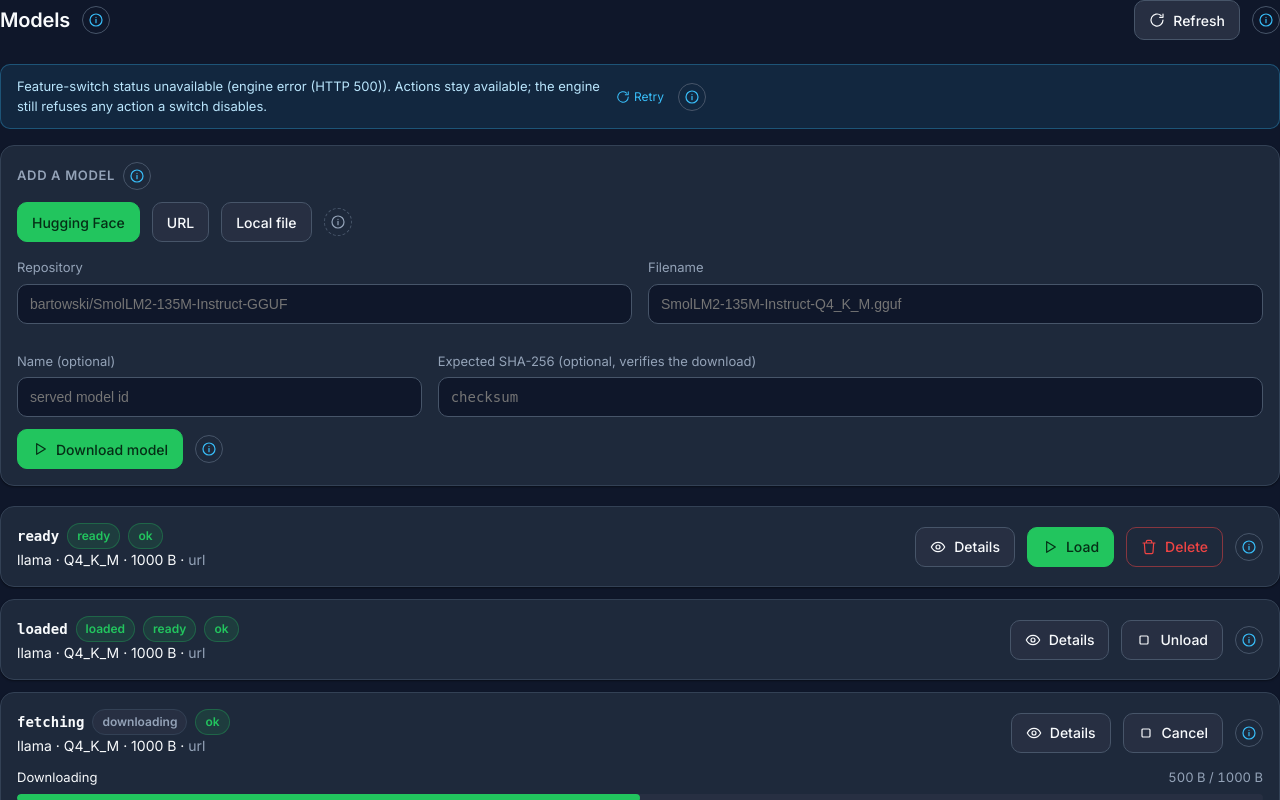
Models with feature switches › says the status is unavailable (not enabled) after a failure, and retries
Expected: the text "Feature-switch status unavailable" shows "engine error (HTTP 500)", 231,78 -> 382,94
Expected: the button "Load" is enabled, 1027,526 -> 1114,566
Step 1. Click the button "Retry" → (640,96), box 610,82 -> 670,110
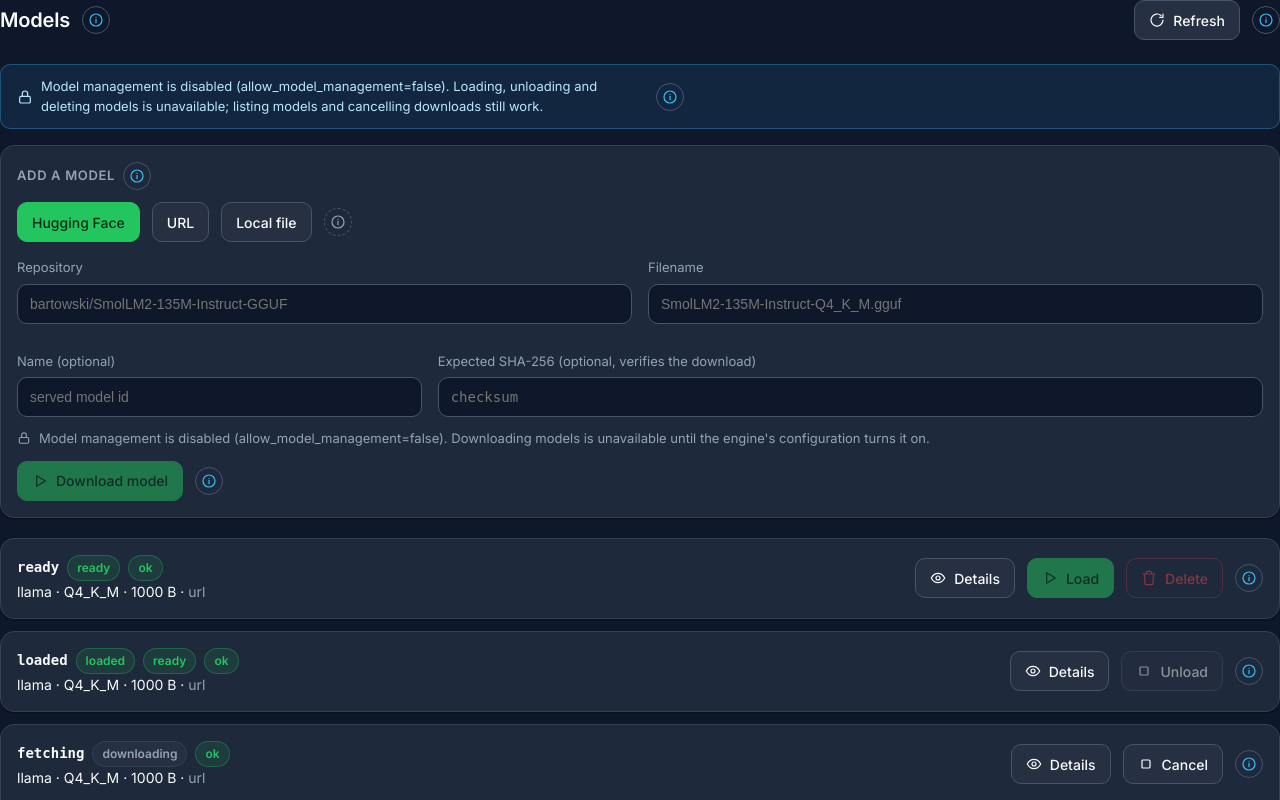
Result: the button "Load" is disabled at 1027,558 -> 1114,598
Result: the text "Feature-switch status unavailable" is gone
